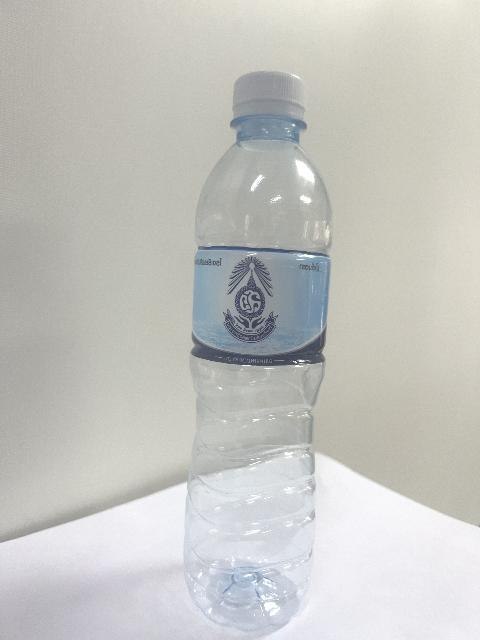bottle: (184, 72, 330, 630)
